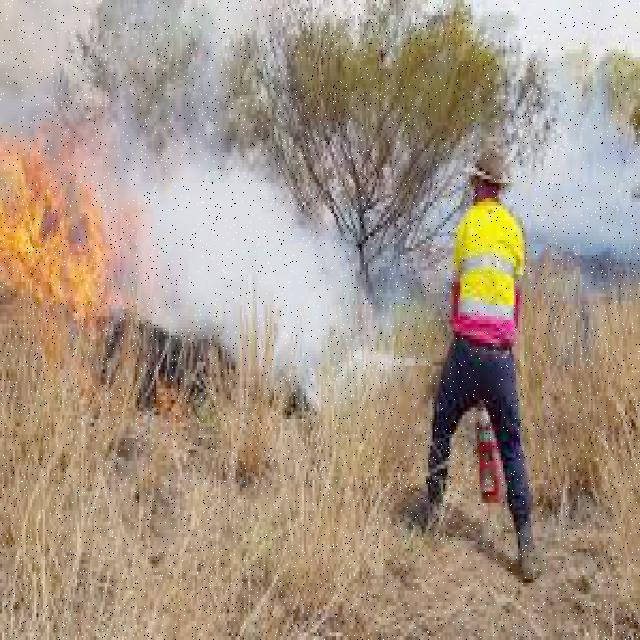fire: (10, 143, 127, 312)
smoke: (142, 148, 348, 378), (519, 78, 640, 249)
